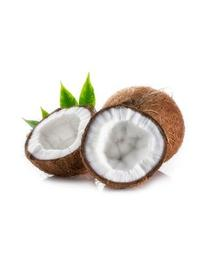coconut: (103, 85, 186, 170), (80, 105, 166, 187), (24, 105, 97, 175)
